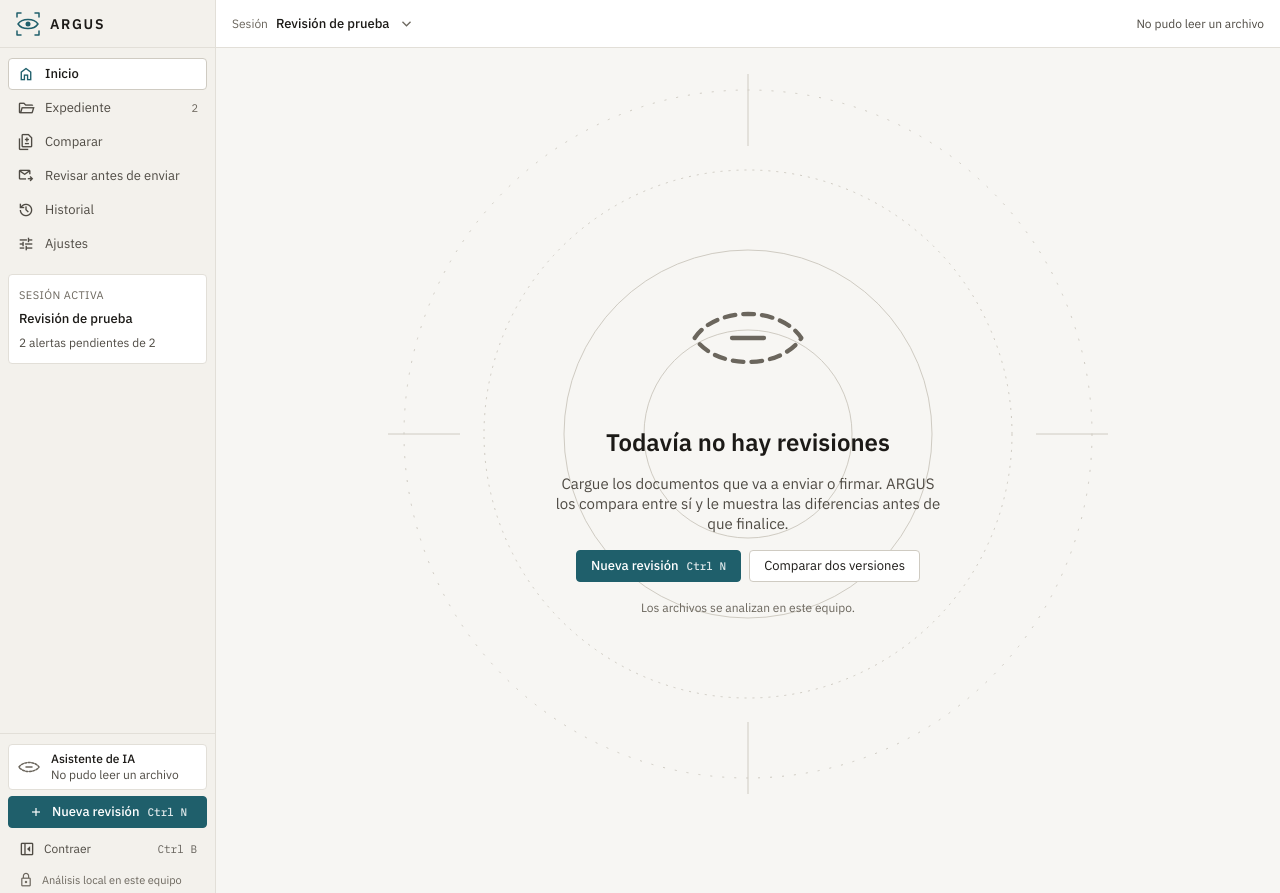
Test: Explicar esta alerta › si el proveedor no responde, lo dice y Reintentar vuelve a pedirla
Click the button "Expediente 2". click: (108, 108)
box: [8,92,207,124]
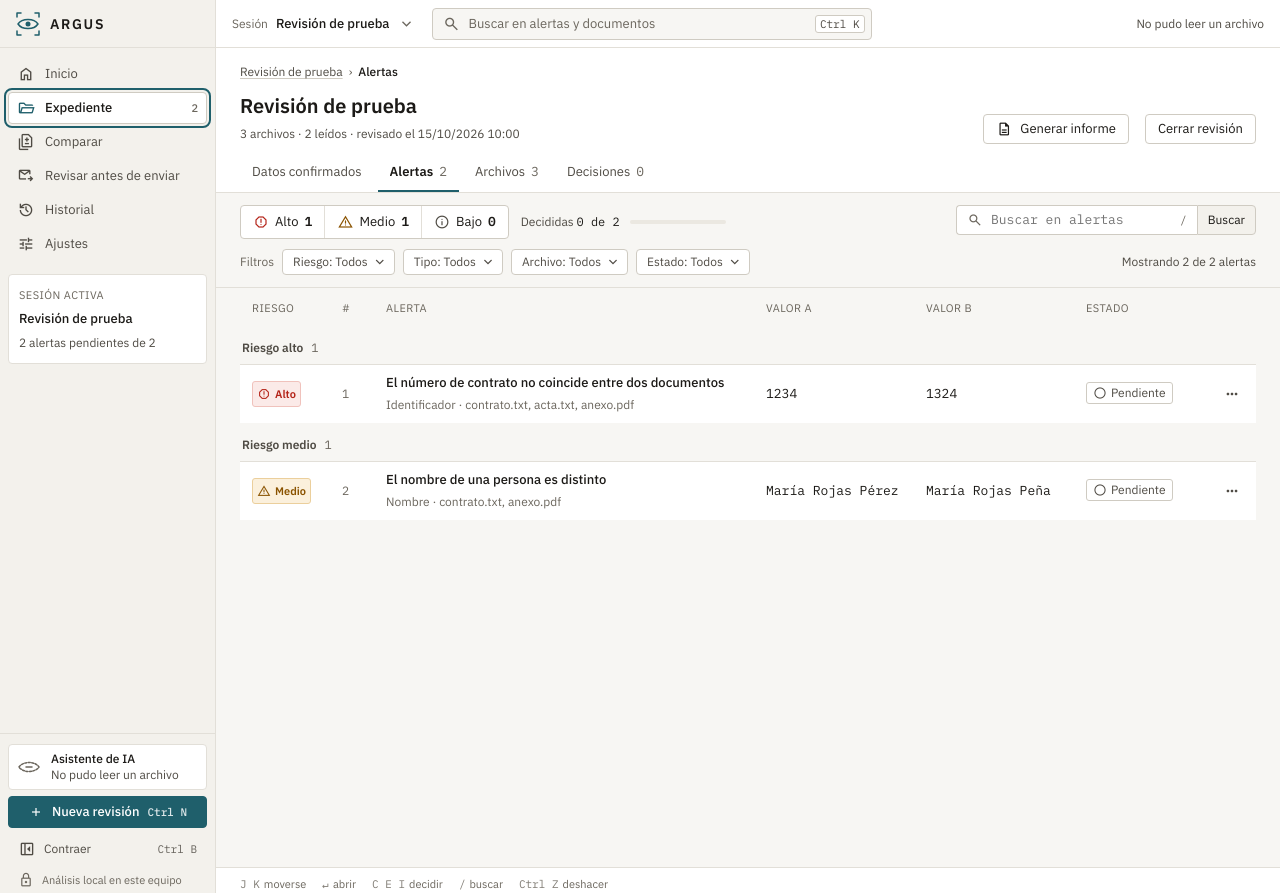
Click the row that starts with "Alto". click: (748, 394)
box: [240,364,1256,423]
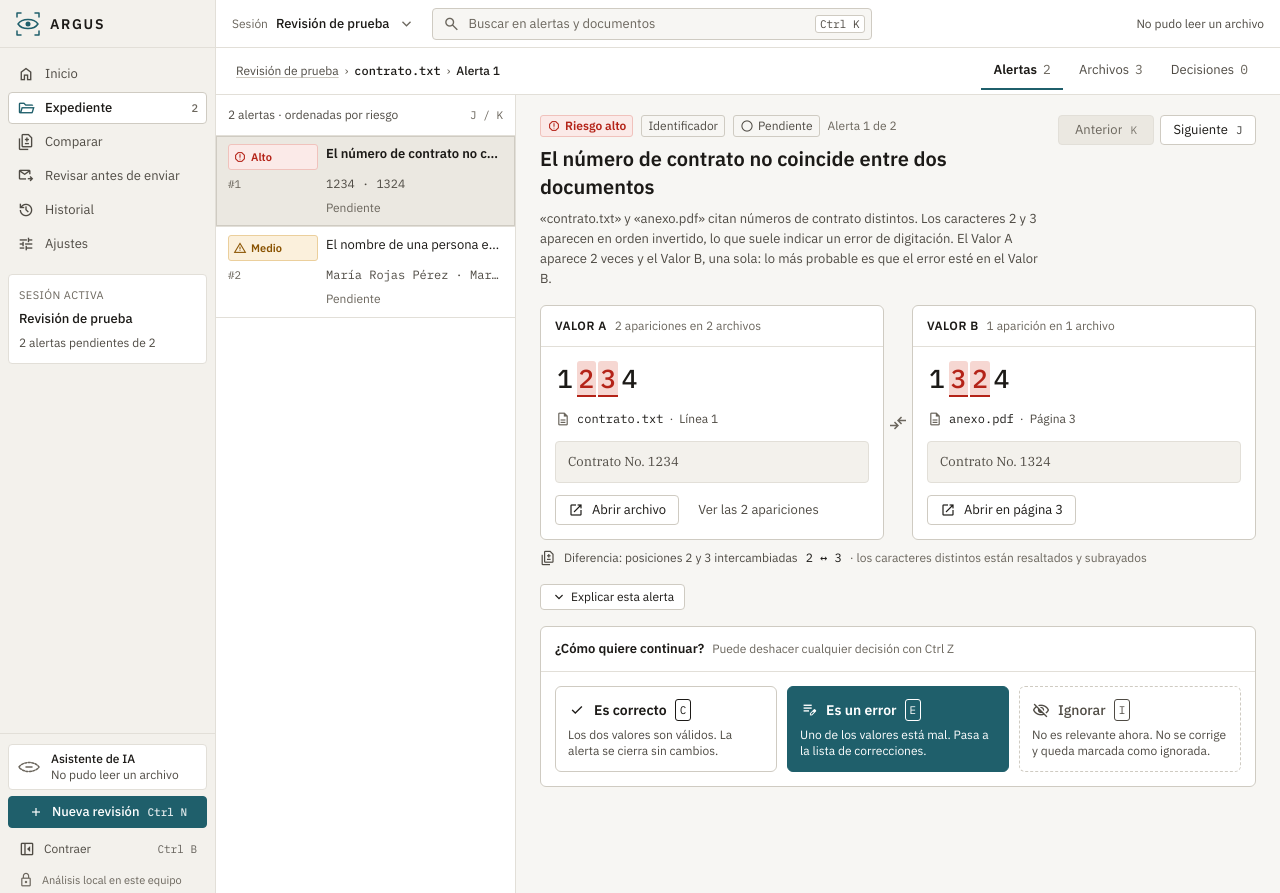
Click the button "Explicar esta alerta". click: (613, 597)
box: [540,584,685,610]
(page scrolled)
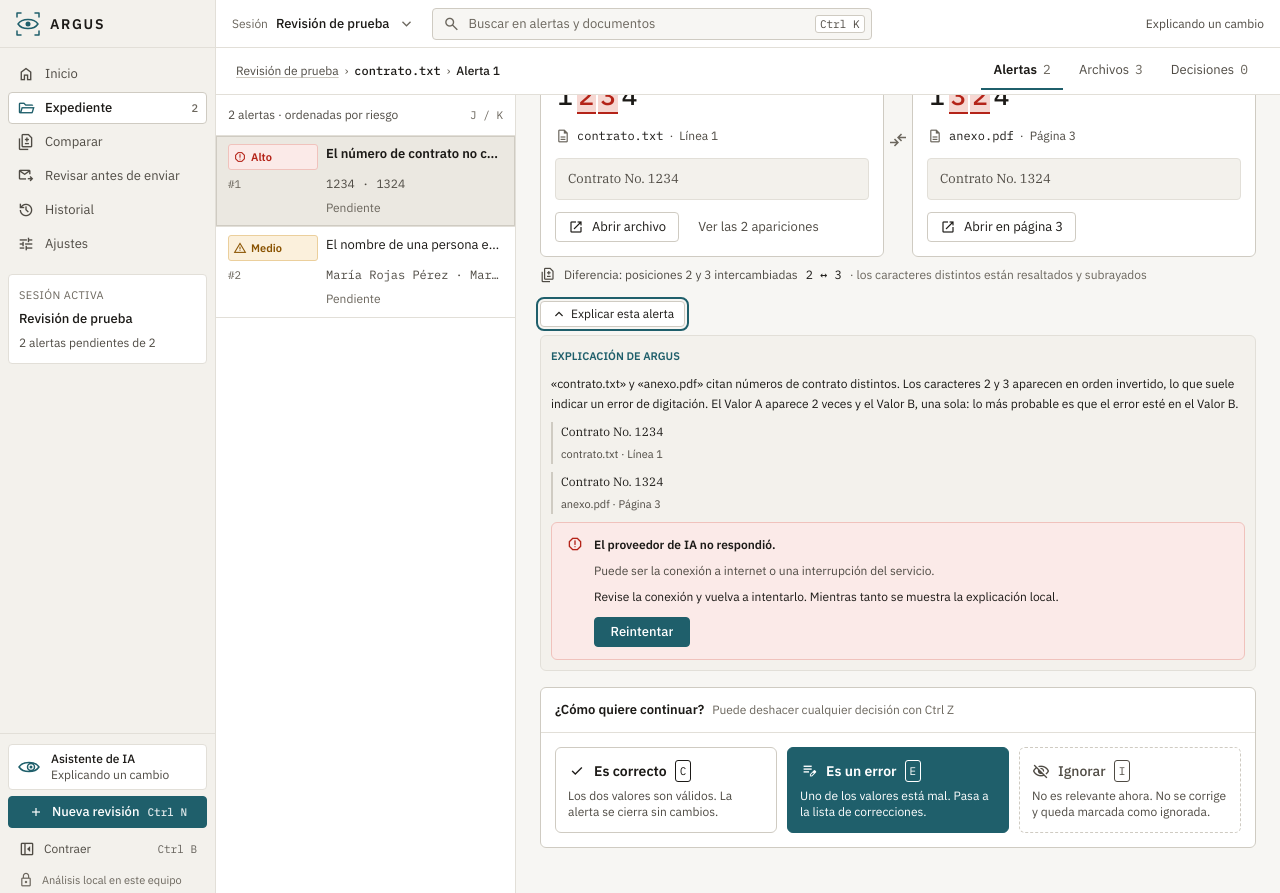
expect the text "El proveedor de IA no respondió." is shown: met, box [594,537,776,552]
Click the button "Reintentar". click: (642, 632)
box: [594,617,690,647]
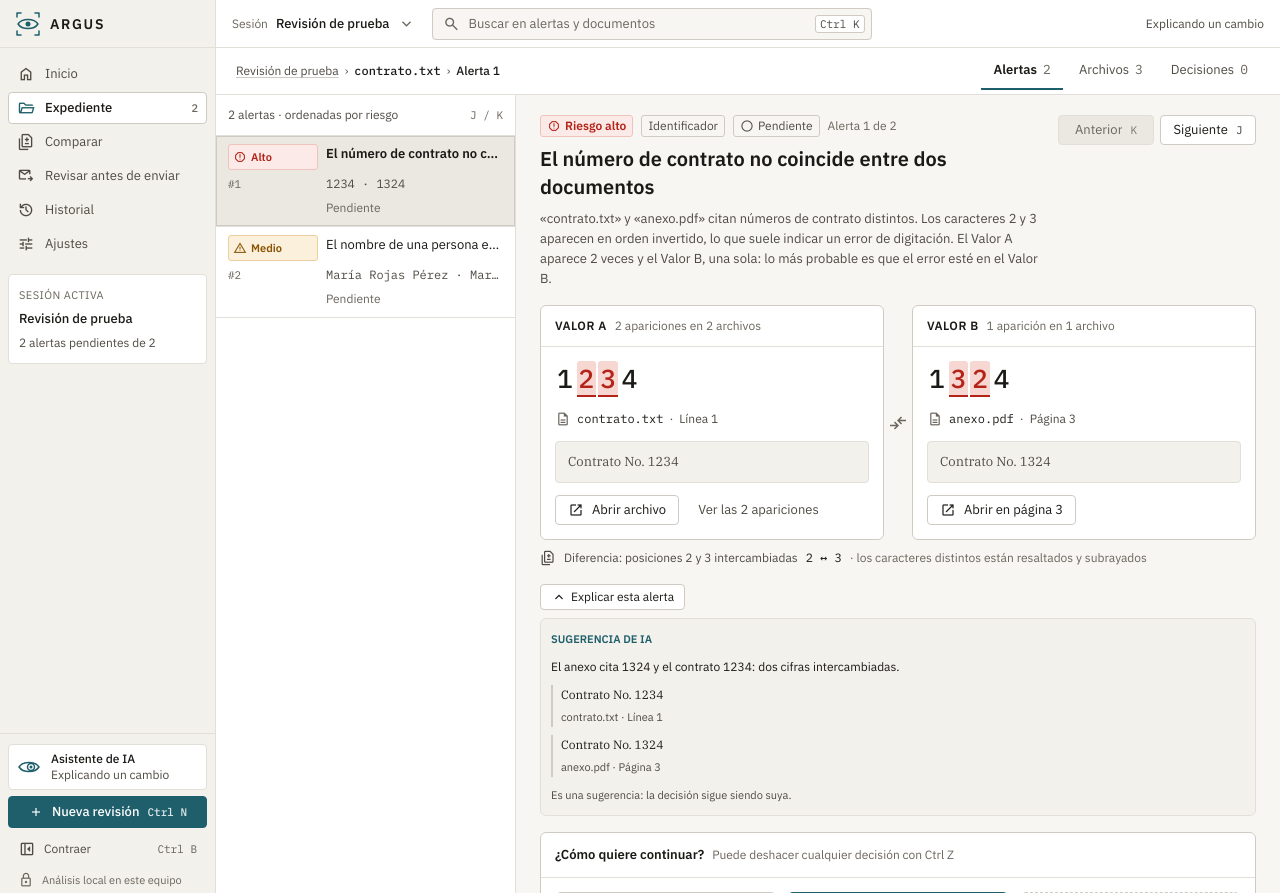
expect the text "Sugerencia de IA" is shown: met, box [551,632,652,646]
